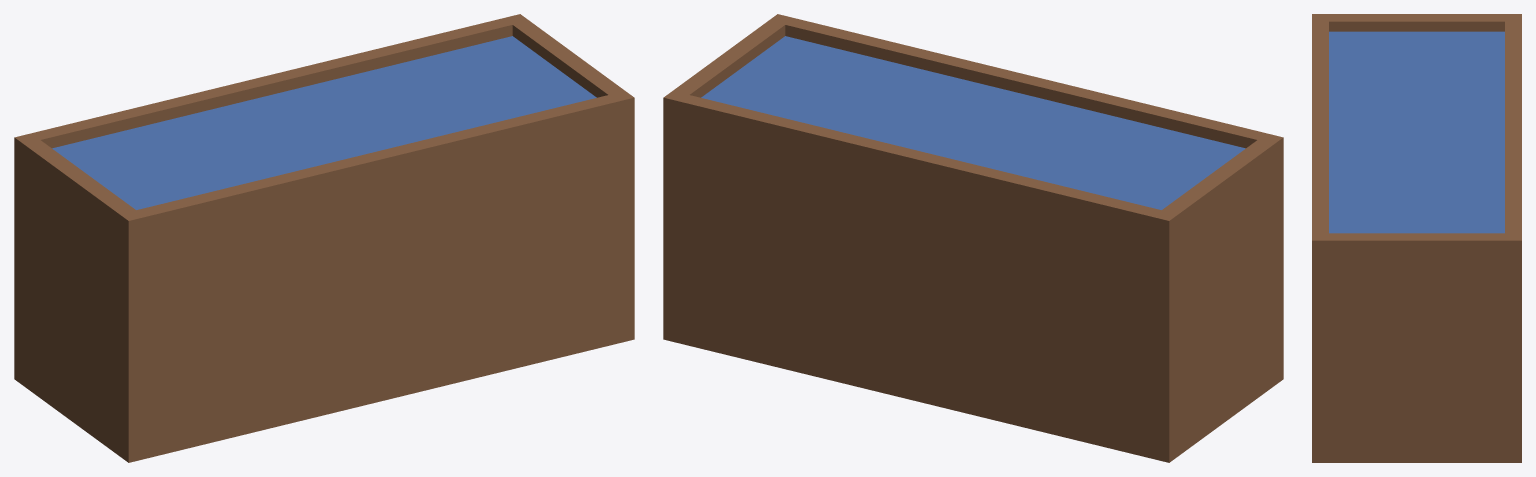
File: minigame 3.fbx
3 renders of one model, left to right at view 1: azimuth 30°, elevation 25°; view 2: azimuth 150°, elevation 25°; view 3: azimuth 270°, elevation 25°, orthographic. The views are drawn at different scales.
Visible parts, largest first — view 1: Cube.044; view 2: Cube.044; view 3: Cube.044.
Part boxes in pixels (<box>): Cube.044: <box>14,14,634,462</box>; Cube.044: <box>663,14,1283,462</box>; Cube.044: <box>1312,14,1521,462</box>.
Size of the model in its own units: 155 by 71.01 by 60.77.
